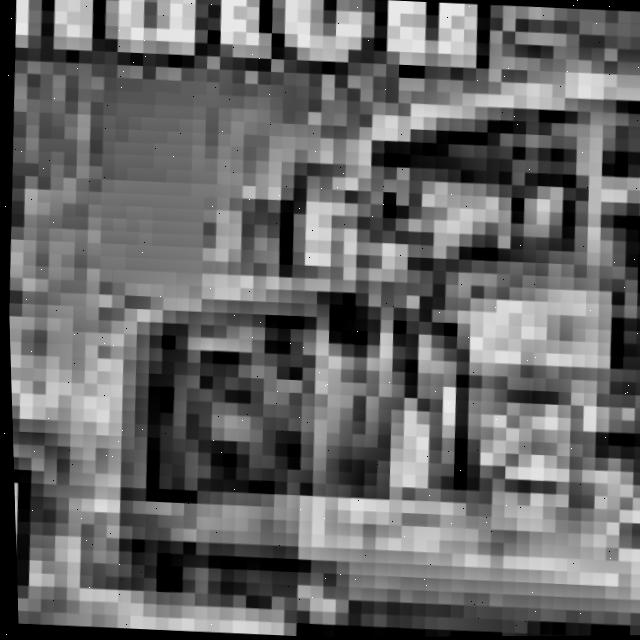dump_truck: (47, 0, 640, 640)
